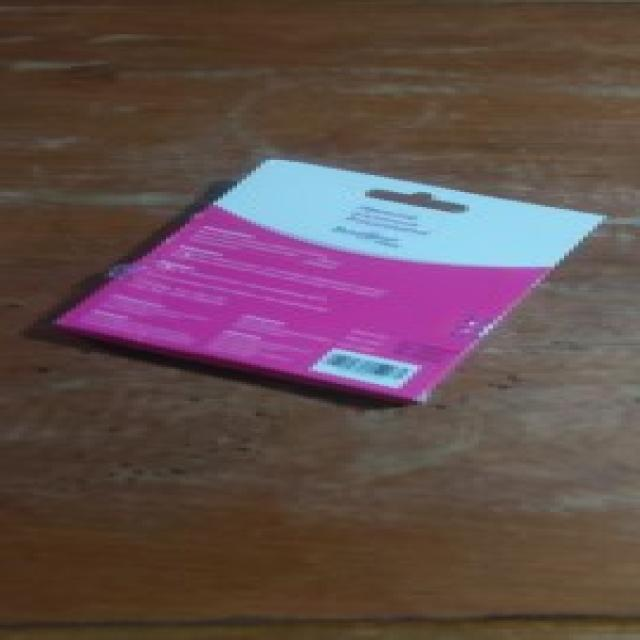Cacat: (47, 160, 614, 403)
